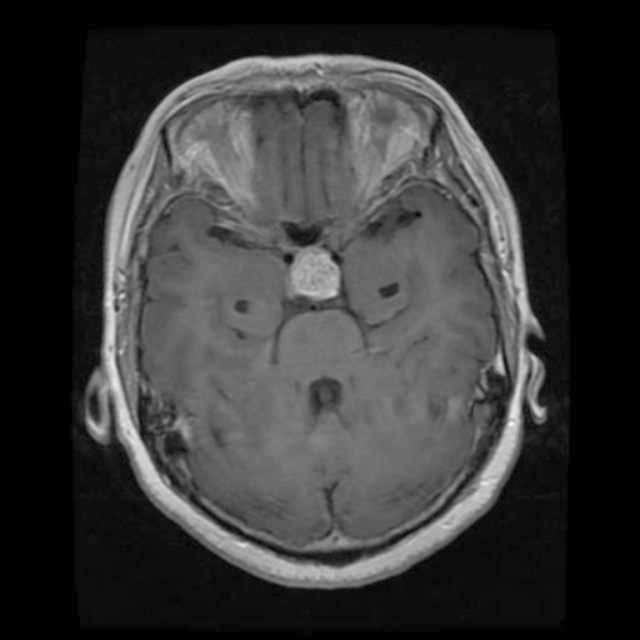no tumor: (286, 241, 346, 309)
